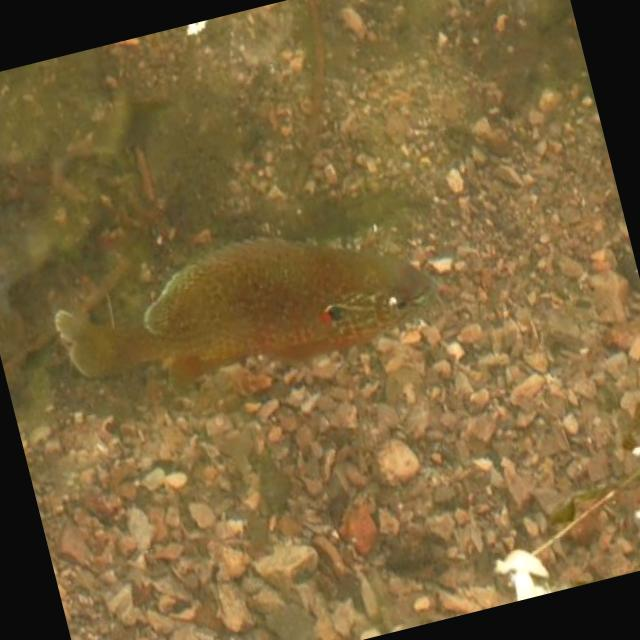Gunes Levregi: (37, 189, 456, 437)
